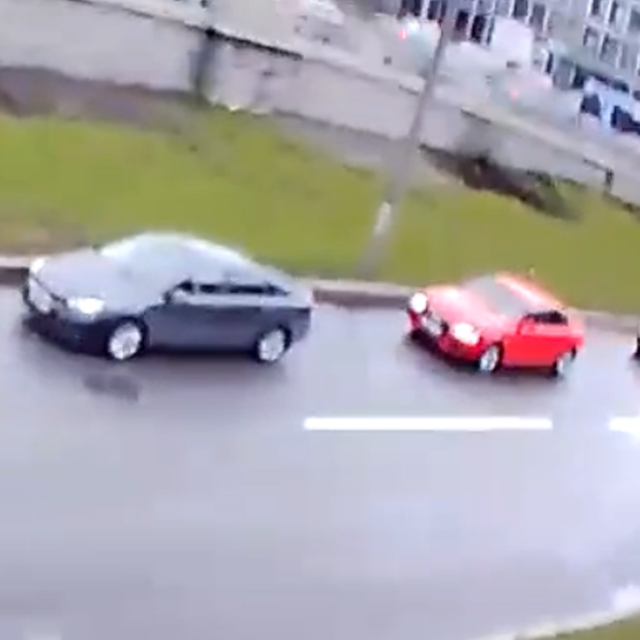car: (21, 232, 313, 363), (407, 271, 583, 374)
